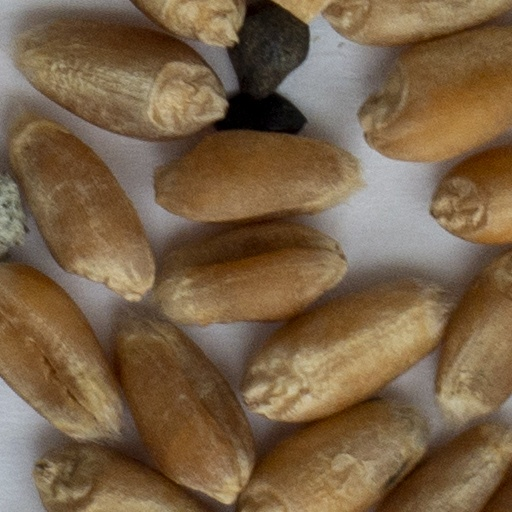Convolvulus-poly: (231, 4, 308, 97)
Fallopia-Convolvulus-poly: (214, 96, 304, 132)
